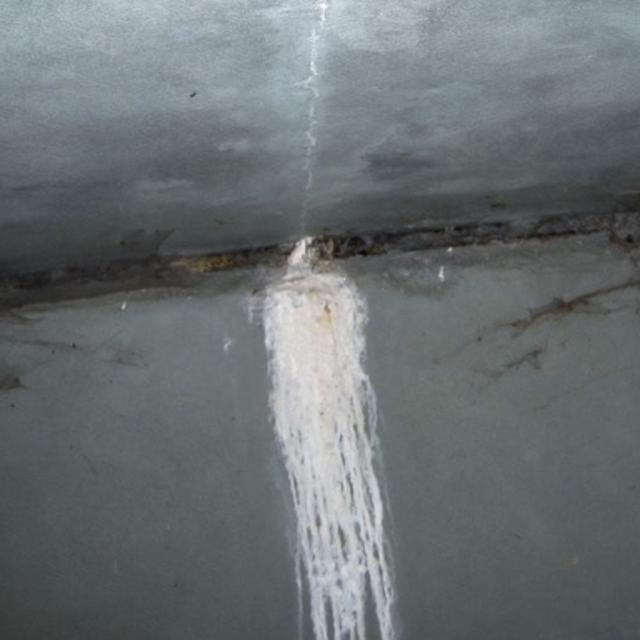D01: (258, 242, 397, 639)
